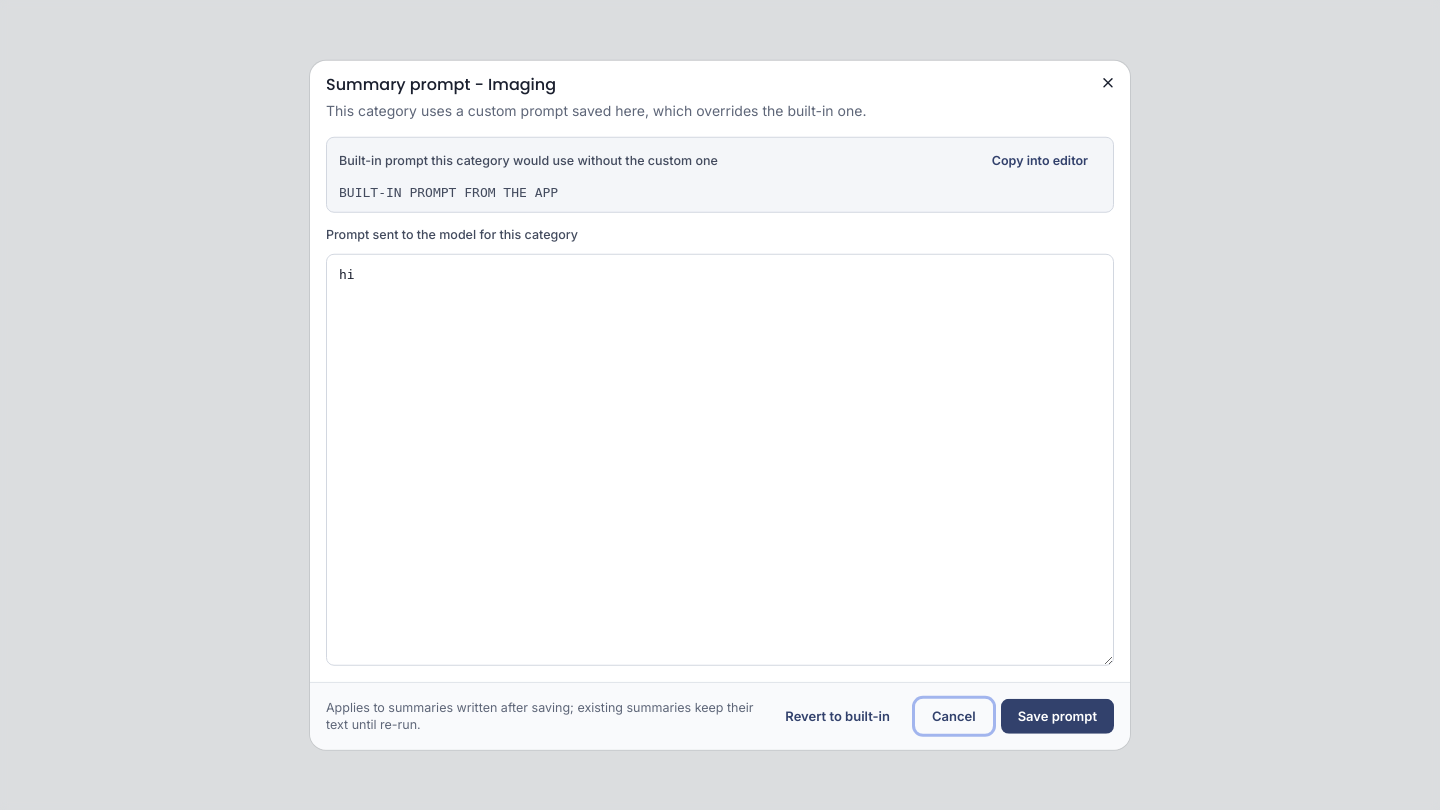
PromptDialog error handling › shows a humanized message when saving the prompt fails
The image size is (1440, 810).
Click the button "Save prompt" at (1057, 716), box x1=1001 y1=698 x2=1114 y2=734
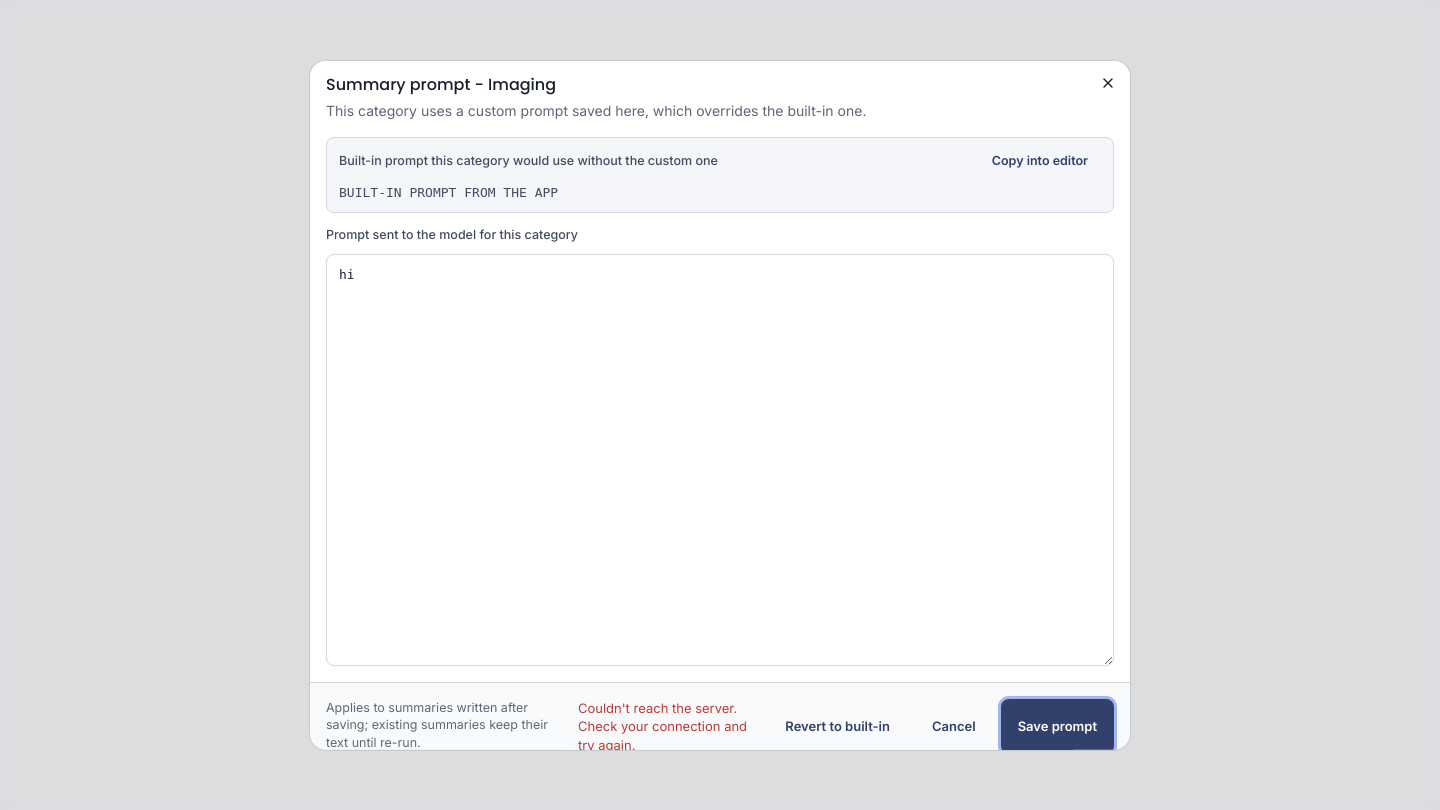
Result: the text "Couldn't reach the server" is shown at x1=578 y1=699 x2=747 y2=749
